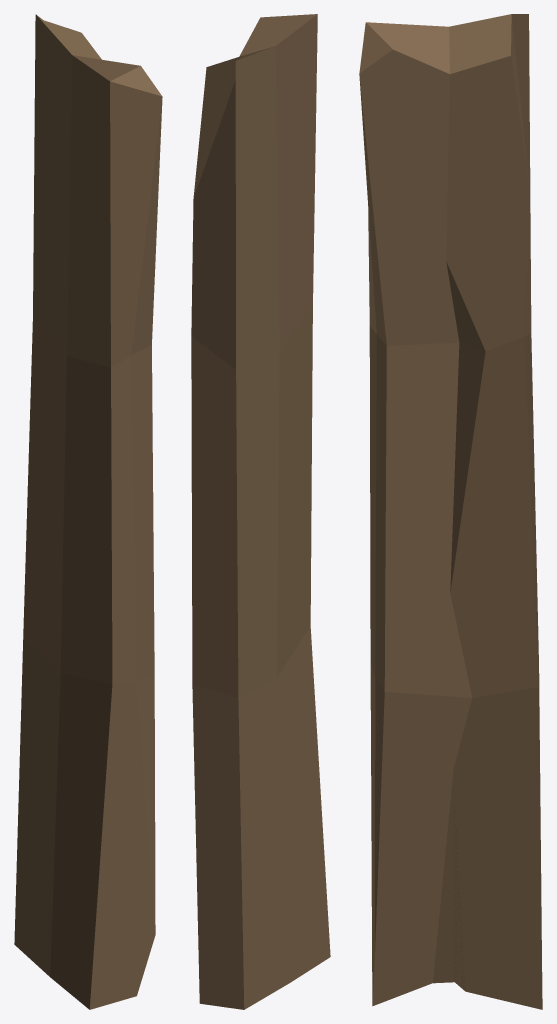
Rendered from Балка .fbx.
3 views of the same model, side by side, from view 1: azimuth 30°, elevation 25°; view 2: azimuth 150°, elevation 25°; view 3: azimuth 270°, elevation 25° (orthographic). The views are drawn at different scales.
Visible parts, largest first — view 1: Plane.006; view 2: Plane.006; view 3: Plane.006.
Boxes of the visible parts, bbox=[...] form: Plane.006: bbox=[14, 14, 162, 1009]; Plane.006: bbox=[191, 14, 330, 1009]; Plane.006: bbox=[359, 14, 542, 1009].
Size of the model in its own units: 25.52 by 325 by 55.01.
